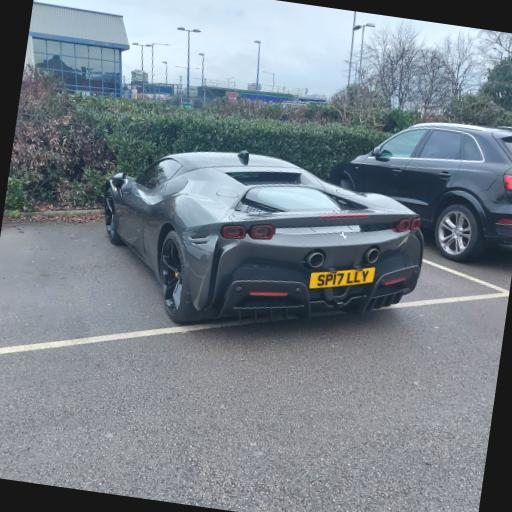numberplates: (309, 268, 374, 288)
